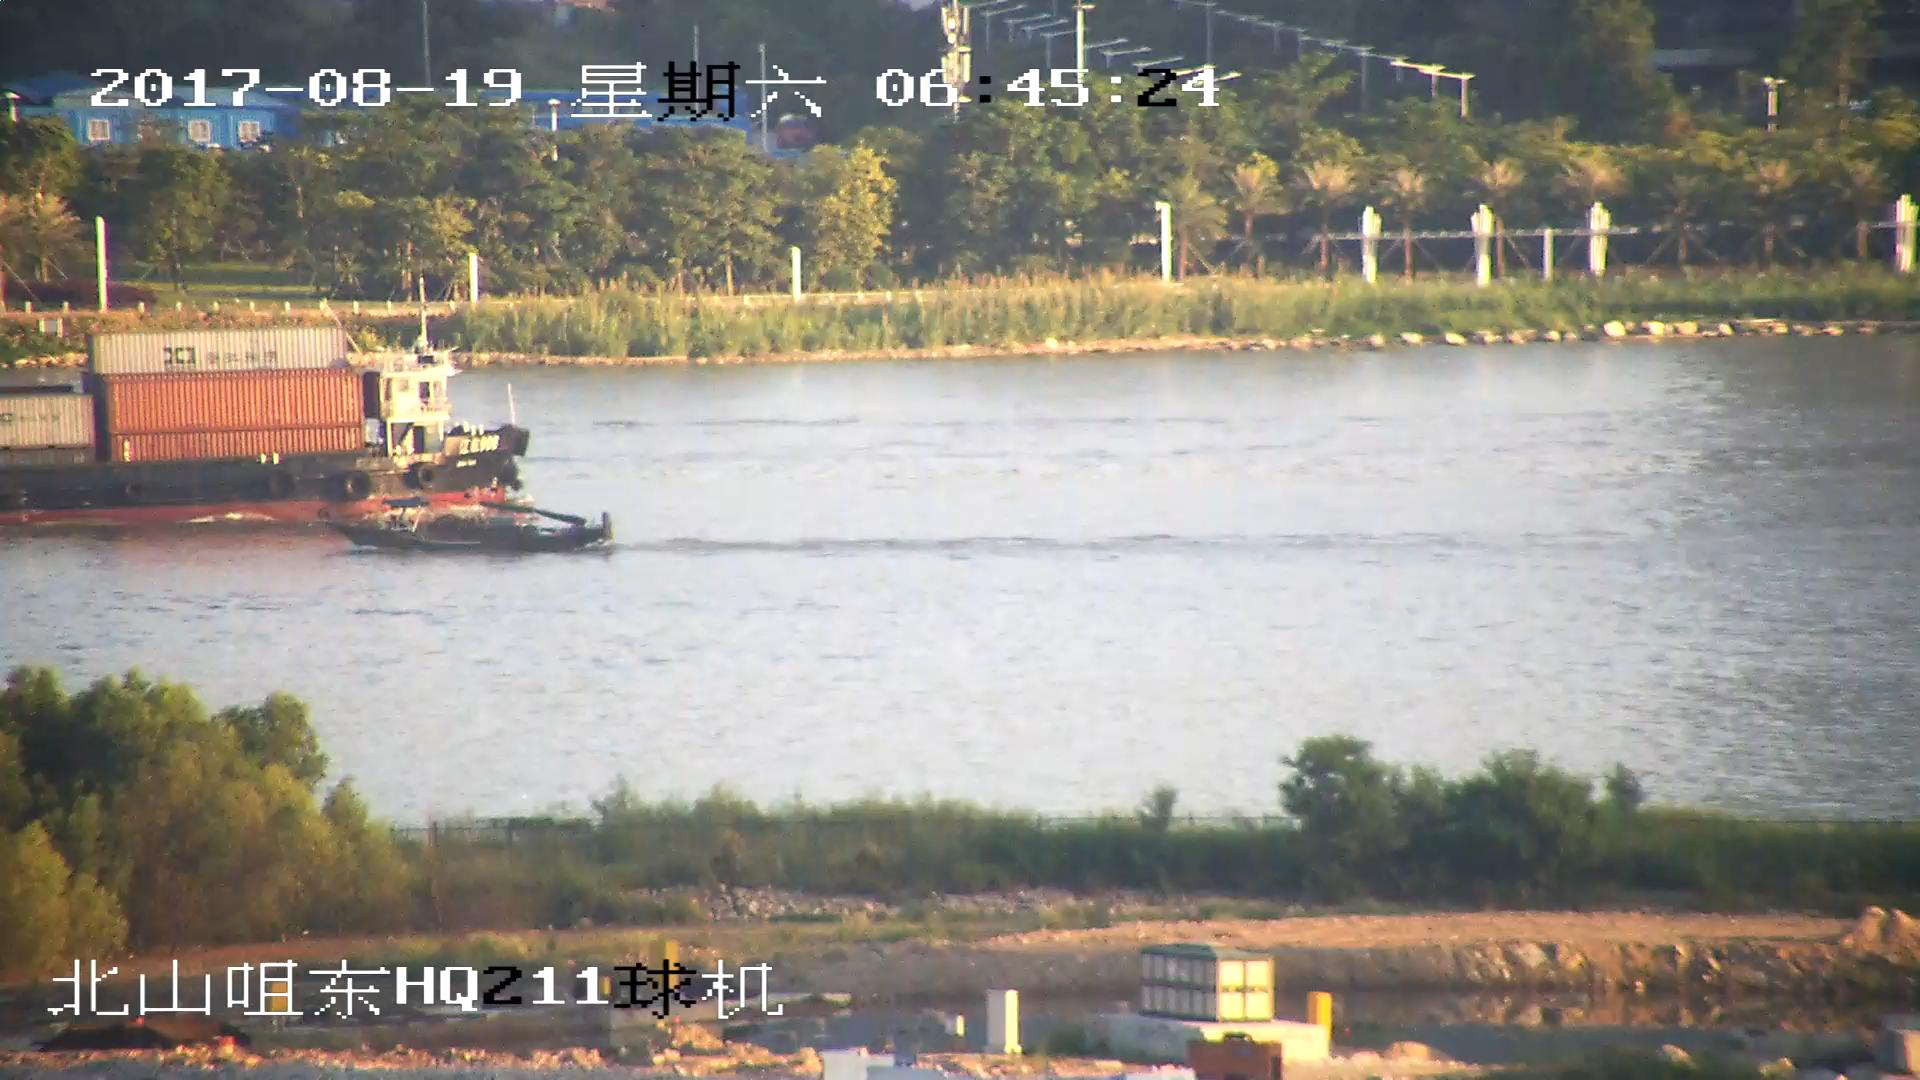container ship: (1, 306, 525, 516)
fishing boat: (316, 492, 612, 552)
